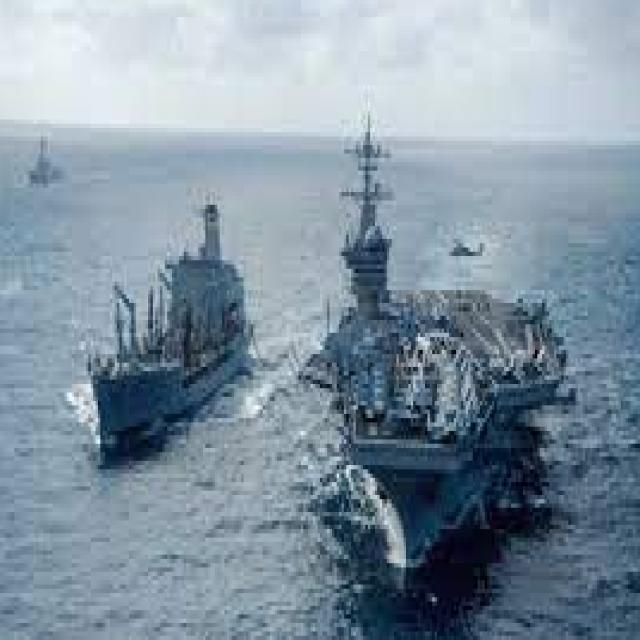navalvessels: (282, 120, 558, 608), (71, 196, 266, 461), (22, 132, 60, 193)
